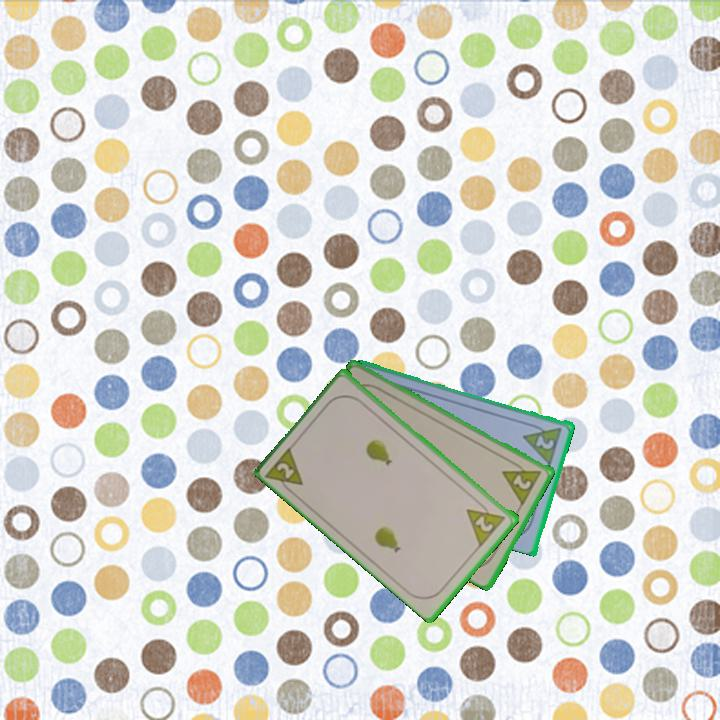2p: (263, 442, 307, 498), (499, 455, 545, 507), (463, 497, 509, 548), (532, 431, 557, 452)
